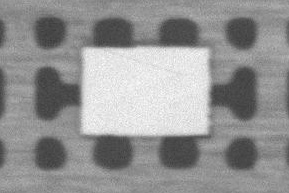DIE_CRACK: (156, 33, 276, 50)
